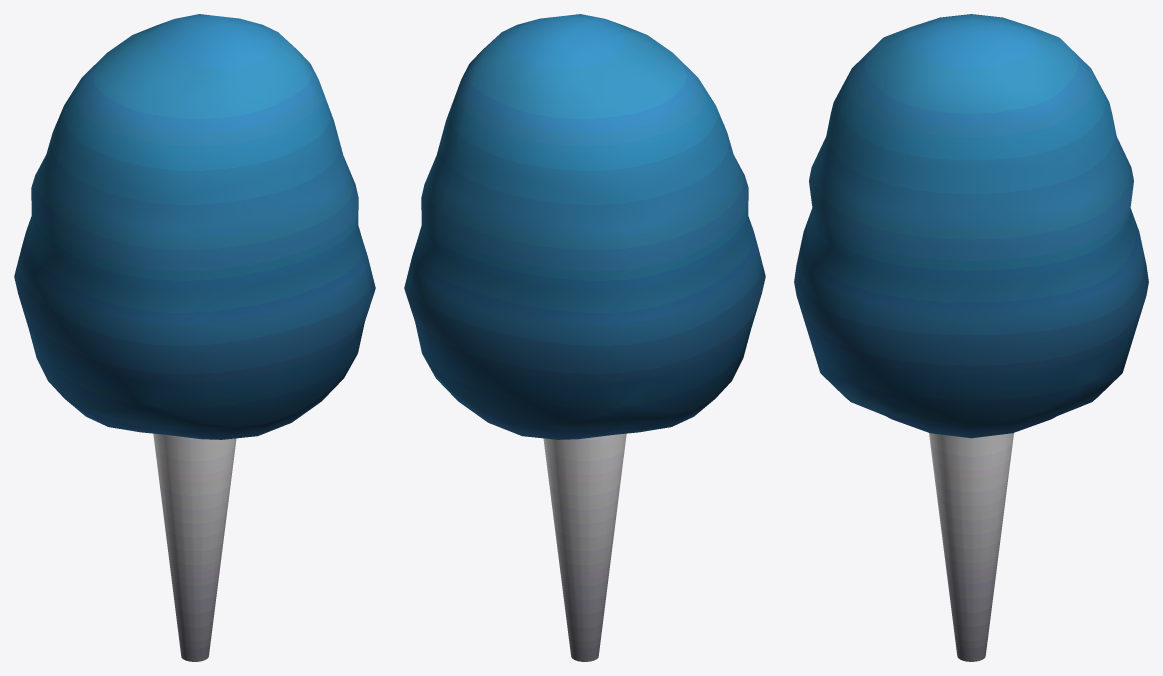
The model's file is SM_Fairyfloss_Bubblegum 1.fbx.
3 views of the same model, side by side, from view 1: azimuth 30°, elevation 25°; view 2: azimuth 150°, elevation 25°; view 3: azimuth 270°, elevation 25° (orthographic). The views are drawn at different scales.
Visible parts, largest first — view 1: SM_fairyfloss; view 2: SM_fairyfloss; view 3: SM_fairyfloss.
Boxes of the visible parts, x1,y1,x2,y2 form: SM_fairyfloss: (14, 14, 375, 661); SM_fairyfloss: (404, 14, 765, 661); SM_fairyfloss: (794, 14, 1148, 661).
Size of the model in its own units: 3.04 by 6.05 by 3.04.
